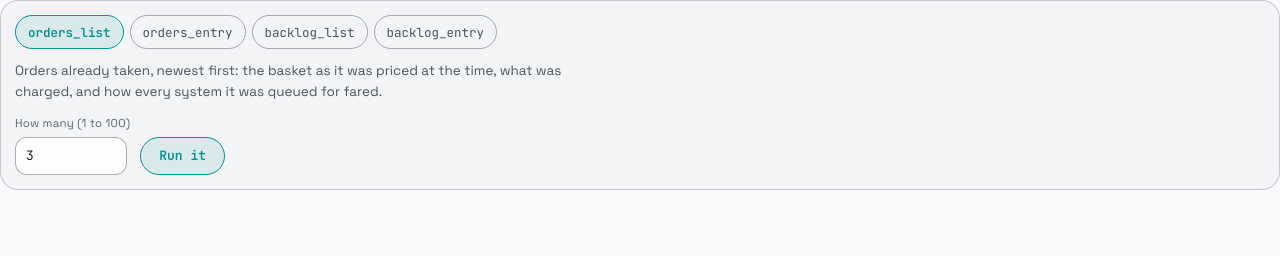
McpConsole › swaps the fields when another tool is chosen
Expected: the number field with test id "mcp-field-limit" is shown, x1=15 y1=137 x2=127 y2=175
Click the button "orders_entry" at [188, 32], box x1=130 y1=15 x2=246 y2=49
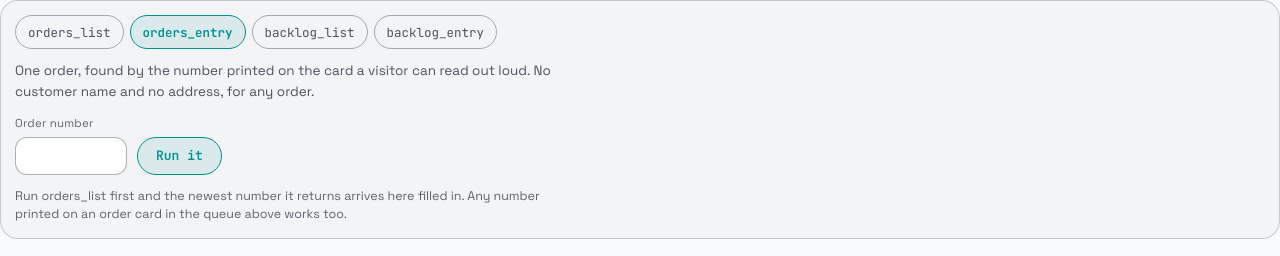
Now the number field with test id "mcp-field-limit" is gone
Now the number field with test id "mcp-field-orderNumber" is shown, box x1=15 y1=137 x2=127 y2=175
